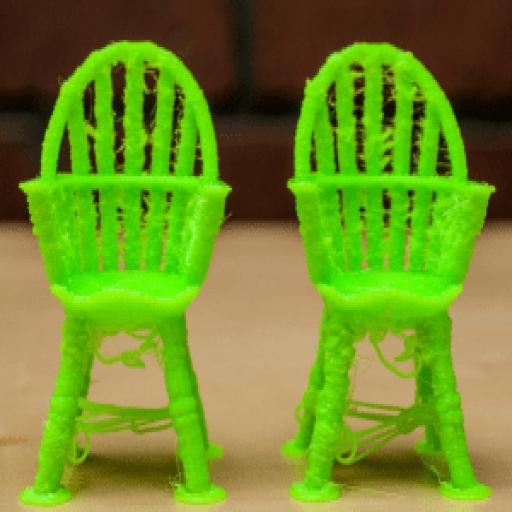stringing: (339, 393, 440, 480), (74, 386, 174, 462), (366, 316, 430, 376), (351, 70, 368, 172), (380, 69, 395, 176), (411, 86, 424, 181)
